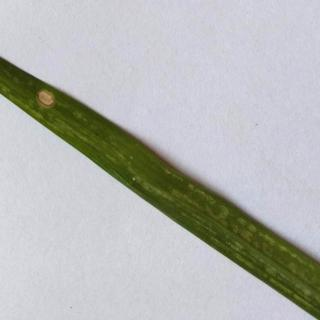Blast: (12, 74, 102, 142)
